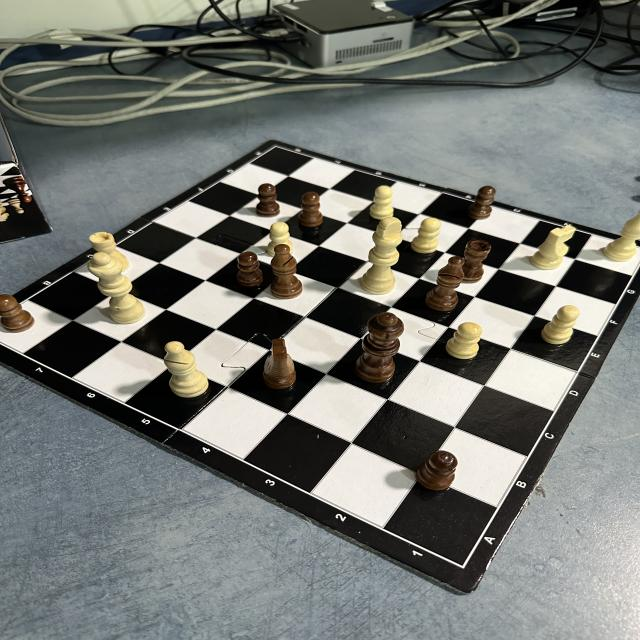Black-Bishop: (424, 256, 465, 312), (270, 243, 303, 300)
Black-Knight: (262, 338, 298, 389)
Black-Pawn: (415, 451, 459, 491), (0, 294, 35, 333), (235, 251, 264, 287), (297, 191, 325, 228), (468, 186, 497, 220), (256, 183, 280, 218)
Black-Queen: (354, 312, 404, 384)
Black-Rook: (463, 238, 492, 284)
White-Bishop: (163, 341, 209, 398), (602, 208, 640, 262)
White-King: (360, 217, 404, 296)
White-Knight: (530, 226, 576, 270)
White-Pawn: (540, 305, 580, 345), (445, 322, 483, 360), (410, 217, 442, 254), (368, 185, 394, 221), (266, 222, 292, 255)
White-Queen: (87, 252, 145, 324)
White-Rook: (88, 231, 116, 253)
